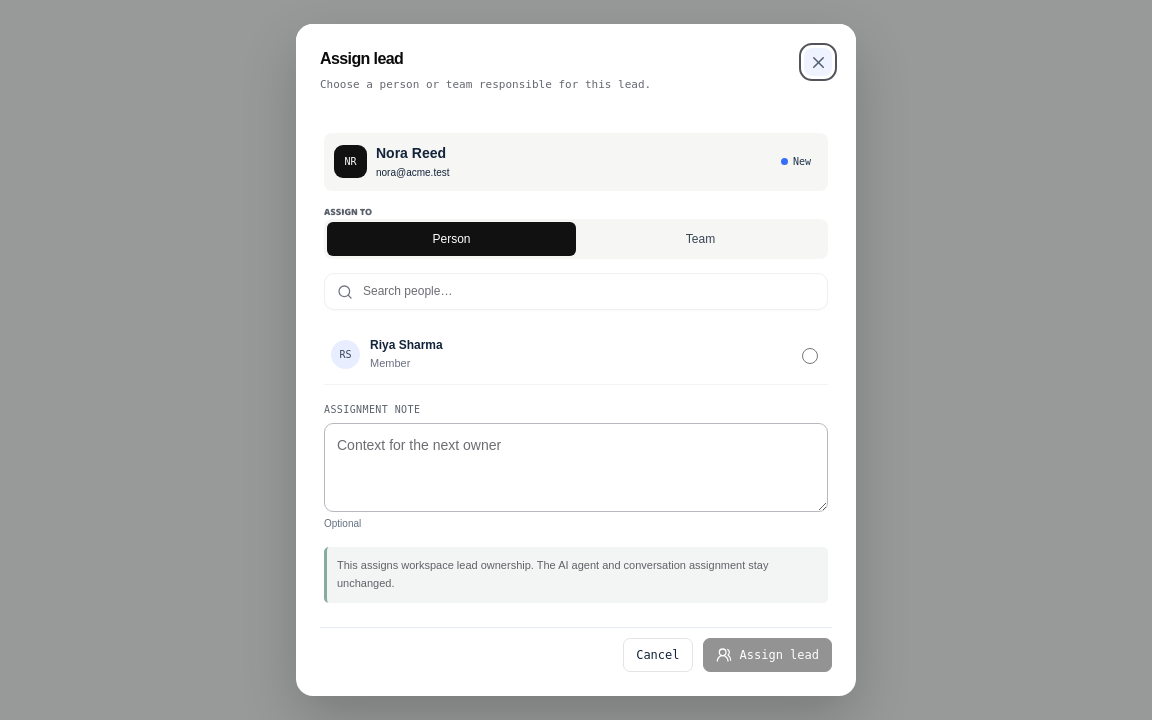
Test: Exported lead workflow dialogs › shows a conflict without closing or treating it as a saved assignment
Click the radio button labelled "RS Riya Sharma Member". click: (810, 356)
box: 802,348 -> 818,364
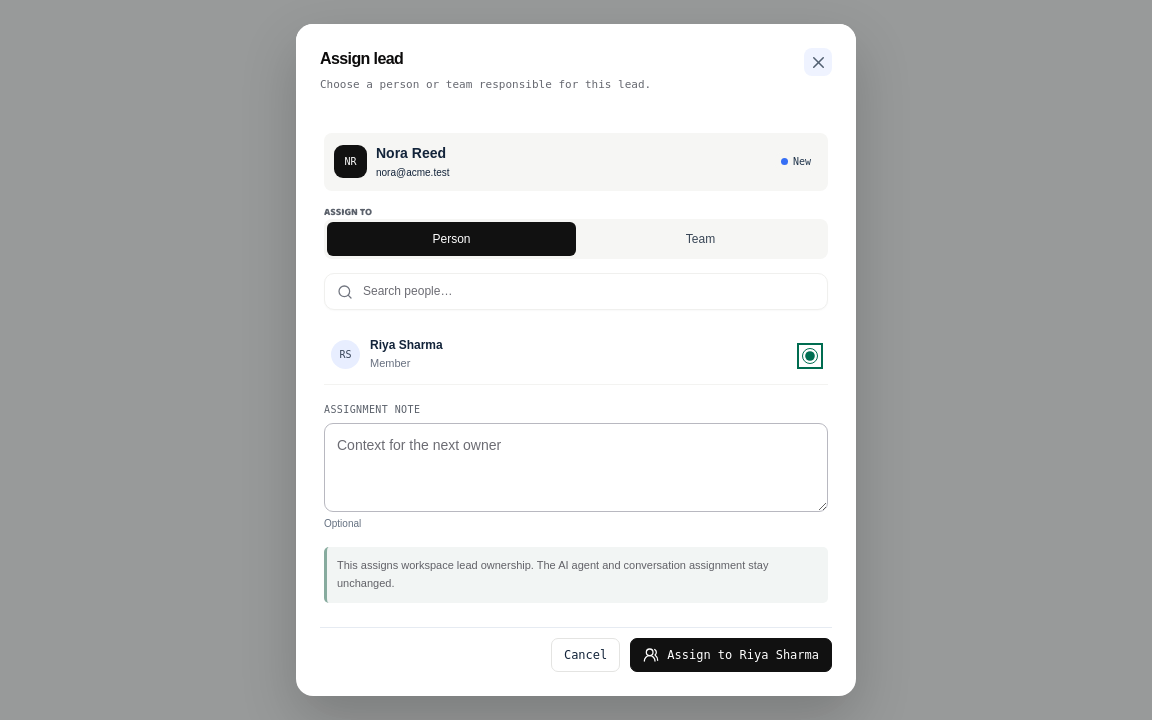
Click the button "Assign to Riya Sharma". click: (731, 655)
box: 630,638 -> 832,672
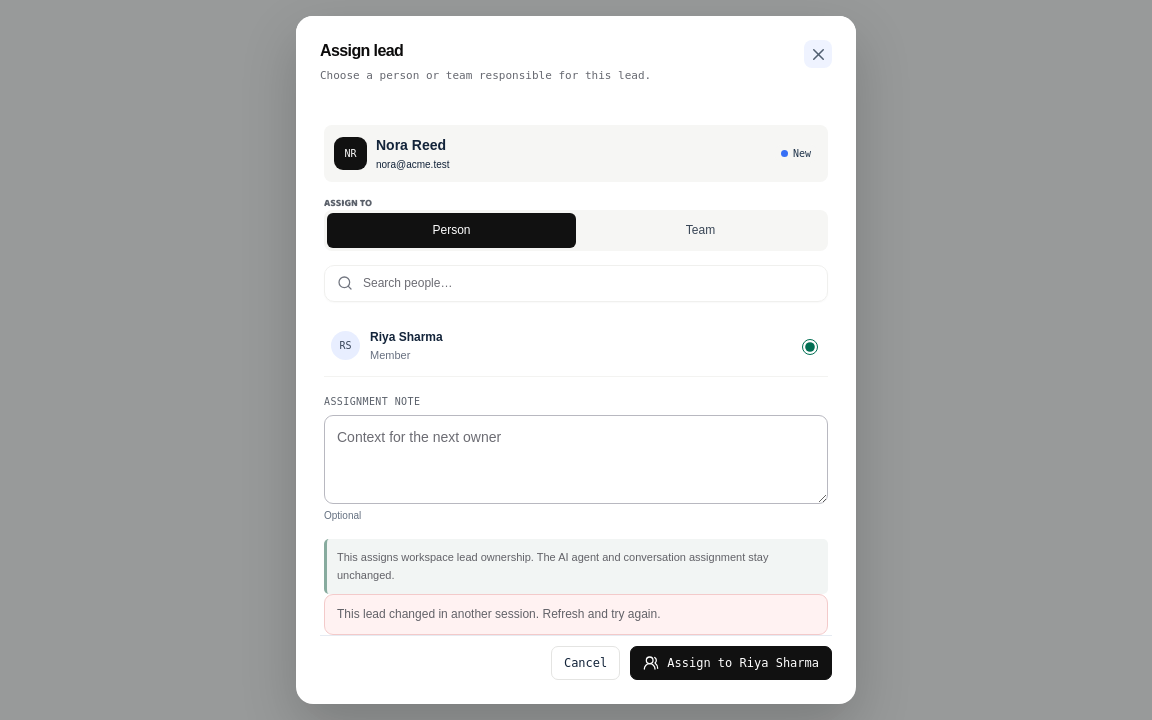
Check: the message shows "another session", box 337,607 -> 660,621
